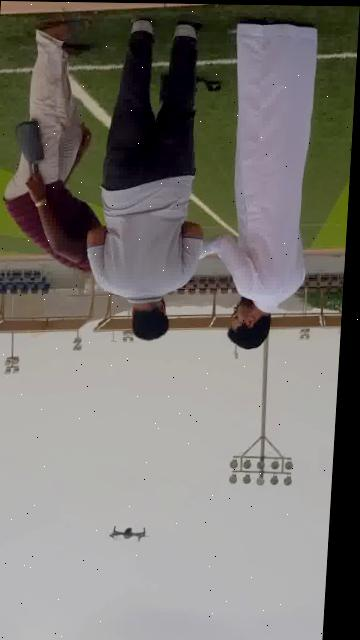drone: (106, 515, 161, 545)
